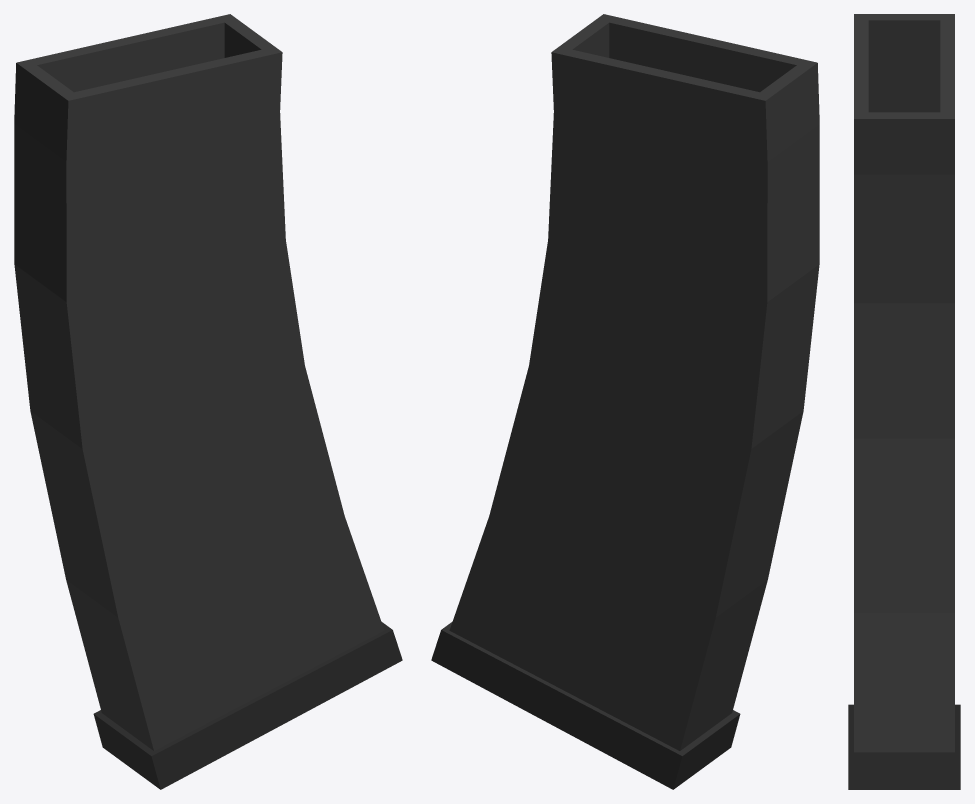
The model's file is AssaultRifle2_06_2.fbx.
The picture shows the model from 3 angles, left to right: view 1: azimuth 30°, elevation 25°; view 2: azimuth 150°, elevation 25°; view 3: azimuth 270°, elevation 25°; orthographic projection. The views are drawn at different scales.
Parts seen in each view (by area): view 1: AssaultRifle2_06_2; view 2: AssaultRifle2_06_2; view 3: AssaultRifle2_06_2.
Boxes of the visible parts, x1,y1,x2,y2 form: AssaultRifle2_06_2: [14, 14, 402, 789]; AssaultRifle2_06_2: [431, 14, 819, 789]; AssaultRifle2_06_2: [848, 14, 960, 789].
Size of the model in its own units: 0.1132 by 0.2299 by 0.0341.
